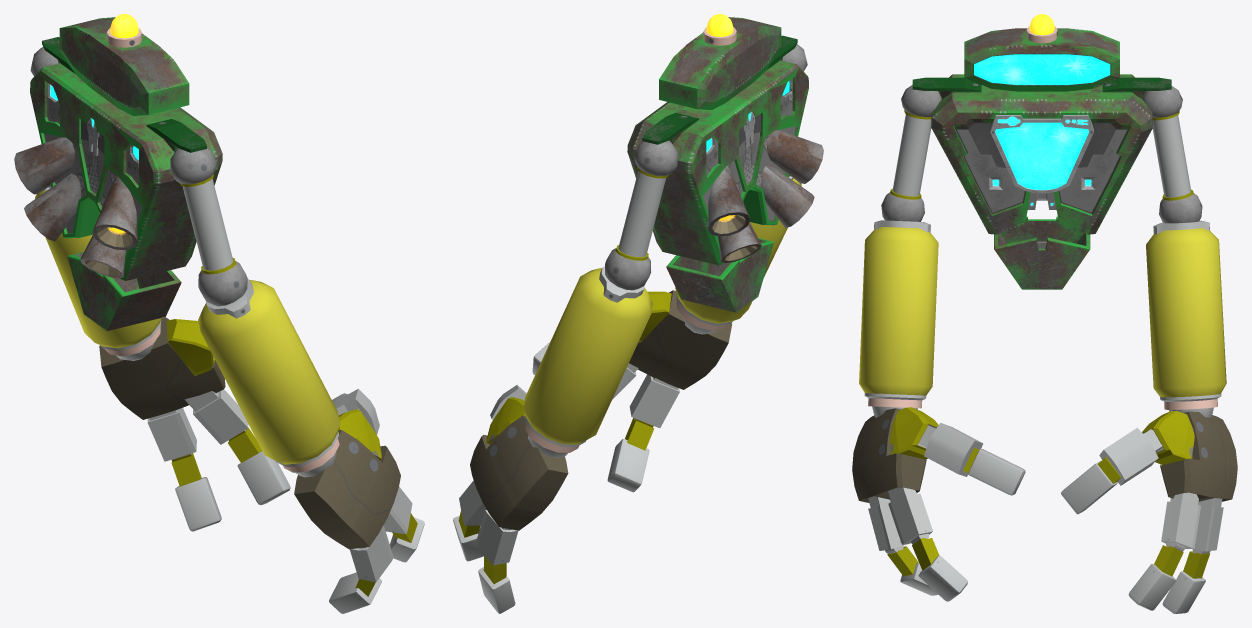
File: main-character-full_26-05-2021.fbx
3 views of the same model, side by side, from view 1: azimuth 30°, elevation 25°; view 2: azimuth 150°, elevation 25°; view 3: azimuth 270°, elevation 25° (orthographic). The views are drawn at different scales.
Parts seen in each view (by area): view 1: Body 01, Right arm 02, Head, Cylinder001, Right hand 01, Right arm 01, Left hand 01, Lower body, Left arm 02, Left hand 02 (×2), LH Fingers 04, LH Fingers 01 (+9 smaller); view 2: Body 01, Left arm 02, Head, Cylinder001, Left hand 01, Left arm 01, Right hand 01, Lower body, Right arm 02, RH Fingers 01, Left hand 02 (×2), RH Fingers 03 (+5 smaller); view 3: Body 01, Right arm 02, Left arm 02, Head, Body 02, Lower body, Left hand 01, Left arm 01, Right arm 01, Right hand 01, Left hand 02 (×2), LH Fingers 07 (+14 smaller).
Boxes of the visible parts, x1,y1,x2,y2 form: Body 01: (30, 37, 222, 280); Right arm 02: (198, 279, 340, 477); Head: (59, 14, 189, 115); Cylinder001: (14, 137, 137, 278); Right hand 01: (294, 430, 400, 549); Right arm 01: (170, 147, 247, 306); Left hand 01: (99, 317, 225, 419); Lower body: (67, 252, 181, 330); Left arm 02: (35, 187, 161, 360); Left hand 02 (×2): (167, 319, 381, 459); LH Fingers 04: (184, 389, 248, 444); LH Fingers 01: (147, 407, 196, 461); Body 01: (627, 35, 808, 265); Left arm 02: (523, 266, 652, 457); Head: (659, 14, 781, 109); Cylinder001: (707, 130, 823, 263); Left hand 01: (470, 415, 568, 530); Left arm 01: (605, 140, 677, 290); Right hand 01: (629, 290, 732, 389); Lower body: (666, 238, 773, 312); Right arm 02: (675, 176, 801, 334); RH Fingers 01: (629, 374, 679, 428); Left hand 02 (×2): (486, 291, 671, 444); RH Fingers 03: (607, 439, 649, 492); Body 01: (912, 74, 1171, 234); Right arm 02: (859, 220, 938, 417); Left arm 02: (1146, 220, 1226, 417); Head: (964, 14, 1119, 91); Body 02: (990, 115, 1093, 193); Lower body: (994, 216, 1090, 289); Left hand 01: (1160, 411, 1237, 501); Left arm 01: (1142, 86, 1202, 223); Right arm 01: (881, 85, 941, 221); Right hand 01: (852, 408, 926, 502); Left hand 02 (×2): (889, 407, 1194, 464); LH Fingers 07: (1099, 427, 1162, 485).
Size of the model in its own units: 56.81 by 107 by 69.82.
